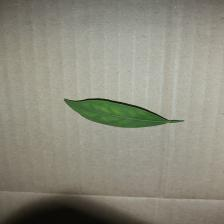greening: (61, 95, 187, 131)
